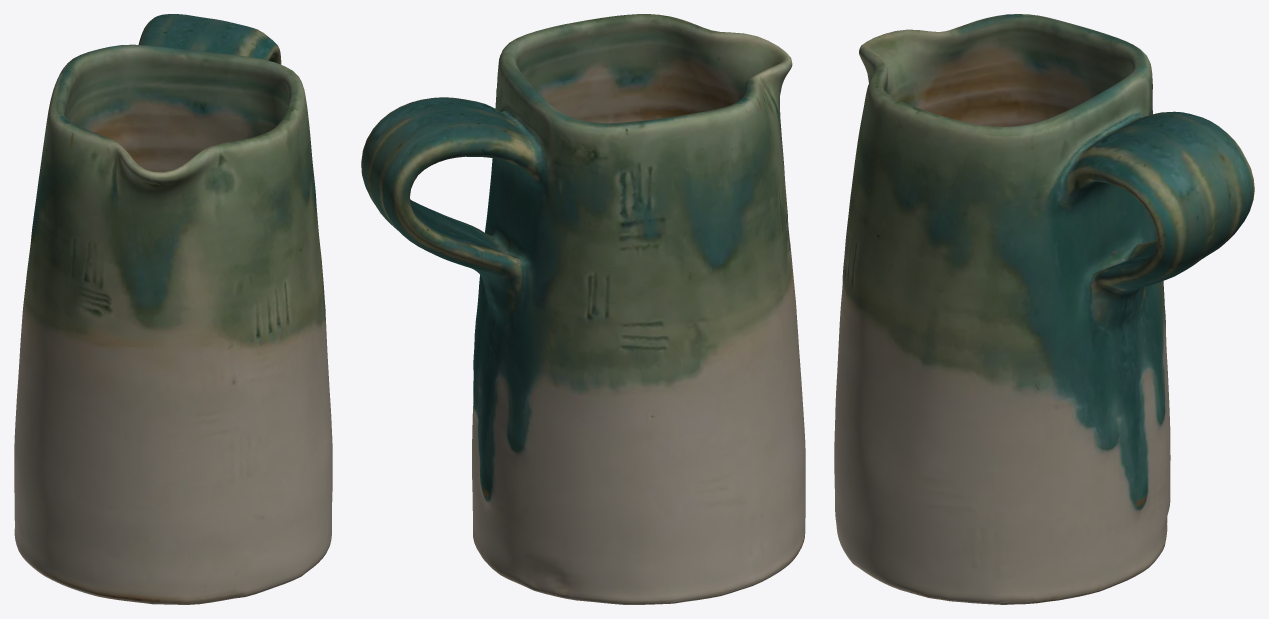
Rendered from compressed_jug.glb.
The picture shows the model from 3 angles, left to right: view 1: azimuth 30°, elevation 25°; view 2: azimuth 150°, elevation 25°; view 3: azimuth 270°, elevation 25°; orthographic projection. The views are drawn at different scales.
Parts seen in each view (by area): view 1: JugCeramicGlazed001_VAR1; view 2: JugCeramicGlazed001_VAR1; view 3: JugCeramicGlazed001_VAR1.
Boxes of the visible parts, x1,y1,x2,y2 form: JugCeramicGlazed001_VAR1: (14,14,332,604); JugCeramicGlazed001_VAR1: (361,14,805,604); JugCeramicGlazed001_VAR1: (834,14,1254,604).
Size of the model in its own units: 0.1871 by 0.2496 by 0.2014.
1 material, 1 textured.
